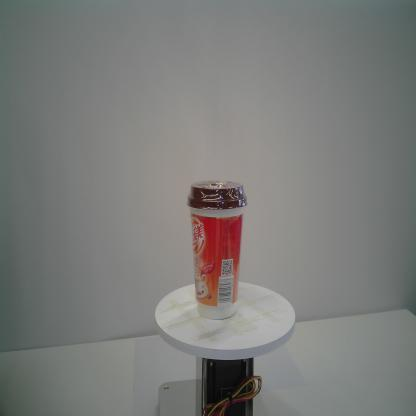Instant Drink: (186, 180, 248, 321)
